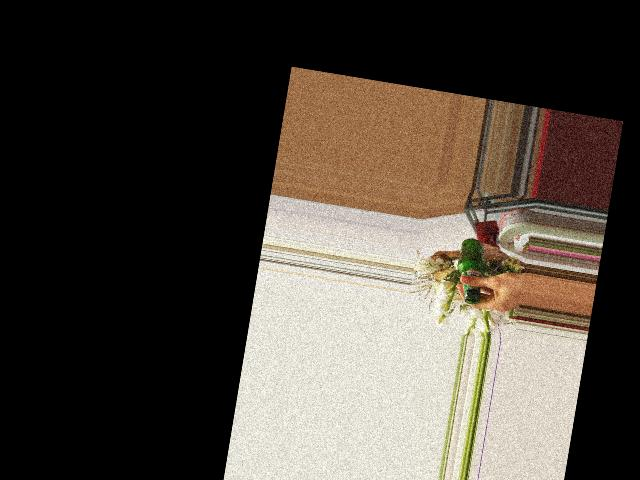beer: (451, 236, 491, 304)
